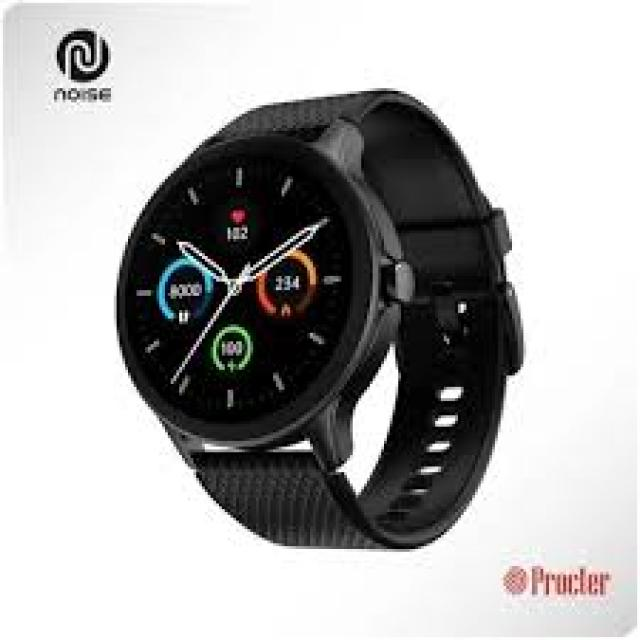objects: (117, 91, 521, 552)
